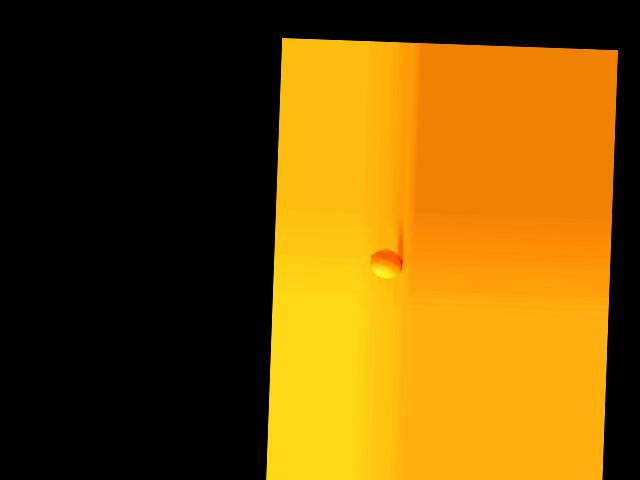lemon: (365, 246, 403, 286)
